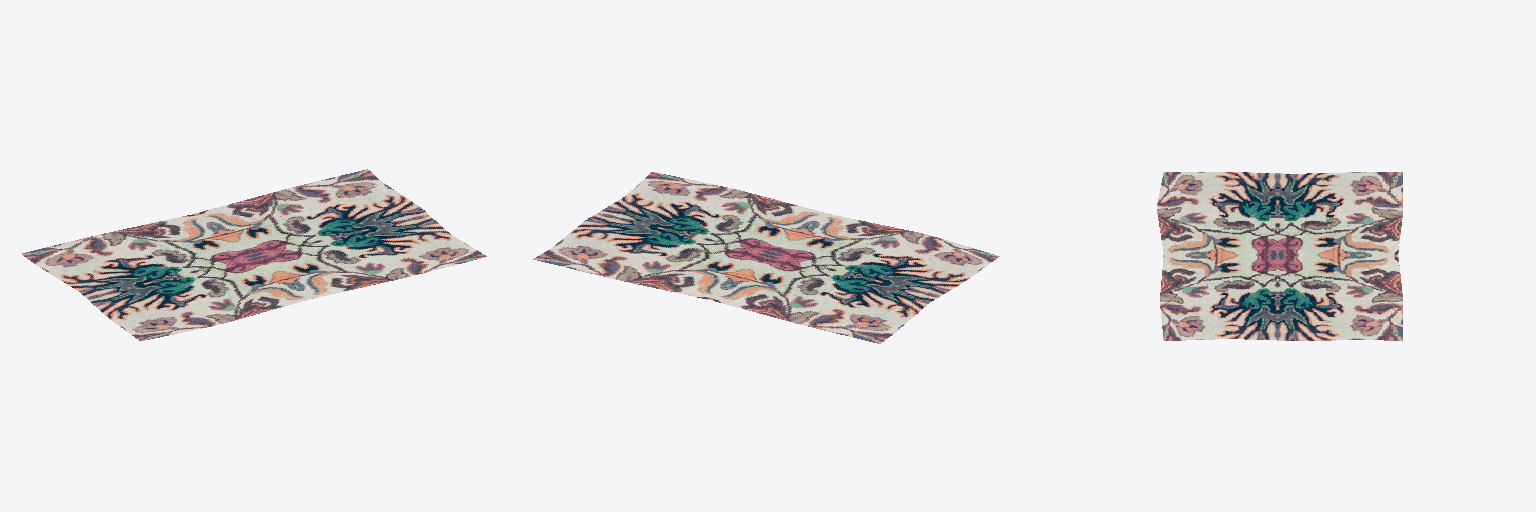
The picture shows the model from 3 angles: view 1: azimuth 30°, elevation 25°; view 2: azimuth 150°, elevation 25°; view 3: azimuth 270°, elevation 25°; orthographic projection.
Parts seen in each view (by area): view 1: rug4; view 2: rug4; view 3: rug4.
Boxes of the visible parts, box(x1,y1,x2,y2) form: rug4: box(22, 169, 486, 341); rug4: box(533, 172, 999, 343); rug4: box(1157, 172, 1402, 340).
Size of the model in its own units: 3.94 by 0.0123 by 2.43.
Materials: 1 (1 with a texture image).